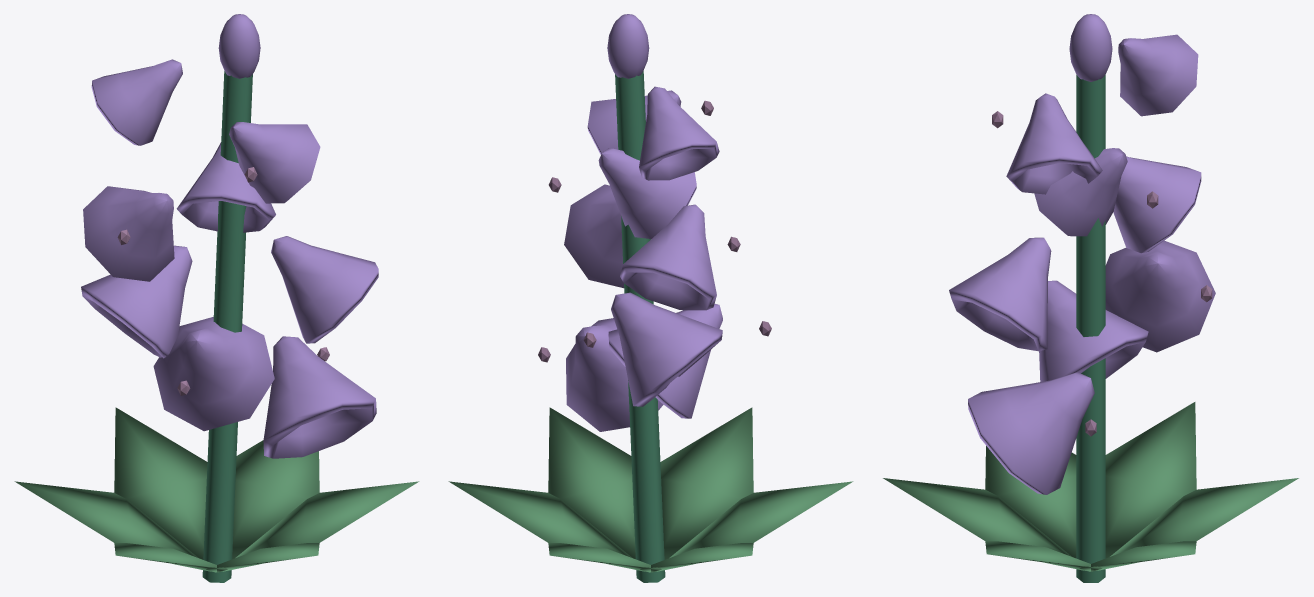
Rendered from foxglove.glb.
3 renders of one model, left to right at view 1: azimuth 30°, elevation 25°; view 2: azimuth 150°, elevation 25°; view 3: azimuth 270°, elevation 25°, orthographic. The views are drawn at different scales.
Parts seen in each view (by area): view 1: Vesper / foxglove; view 2: Vesper / foxglove; view 3: Vesper / foxglove.
Part boxes in pixels (x1,y1,x2,y2): Vesper / foxglove: (14, 14, 419, 582); Vesper / foxglove: (448, 14, 853, 582); Vesper / foxglove: (883, 14, 1298, 582).
Bounding box in the file's own units: 1.34 × 2.35 × 1.55.
